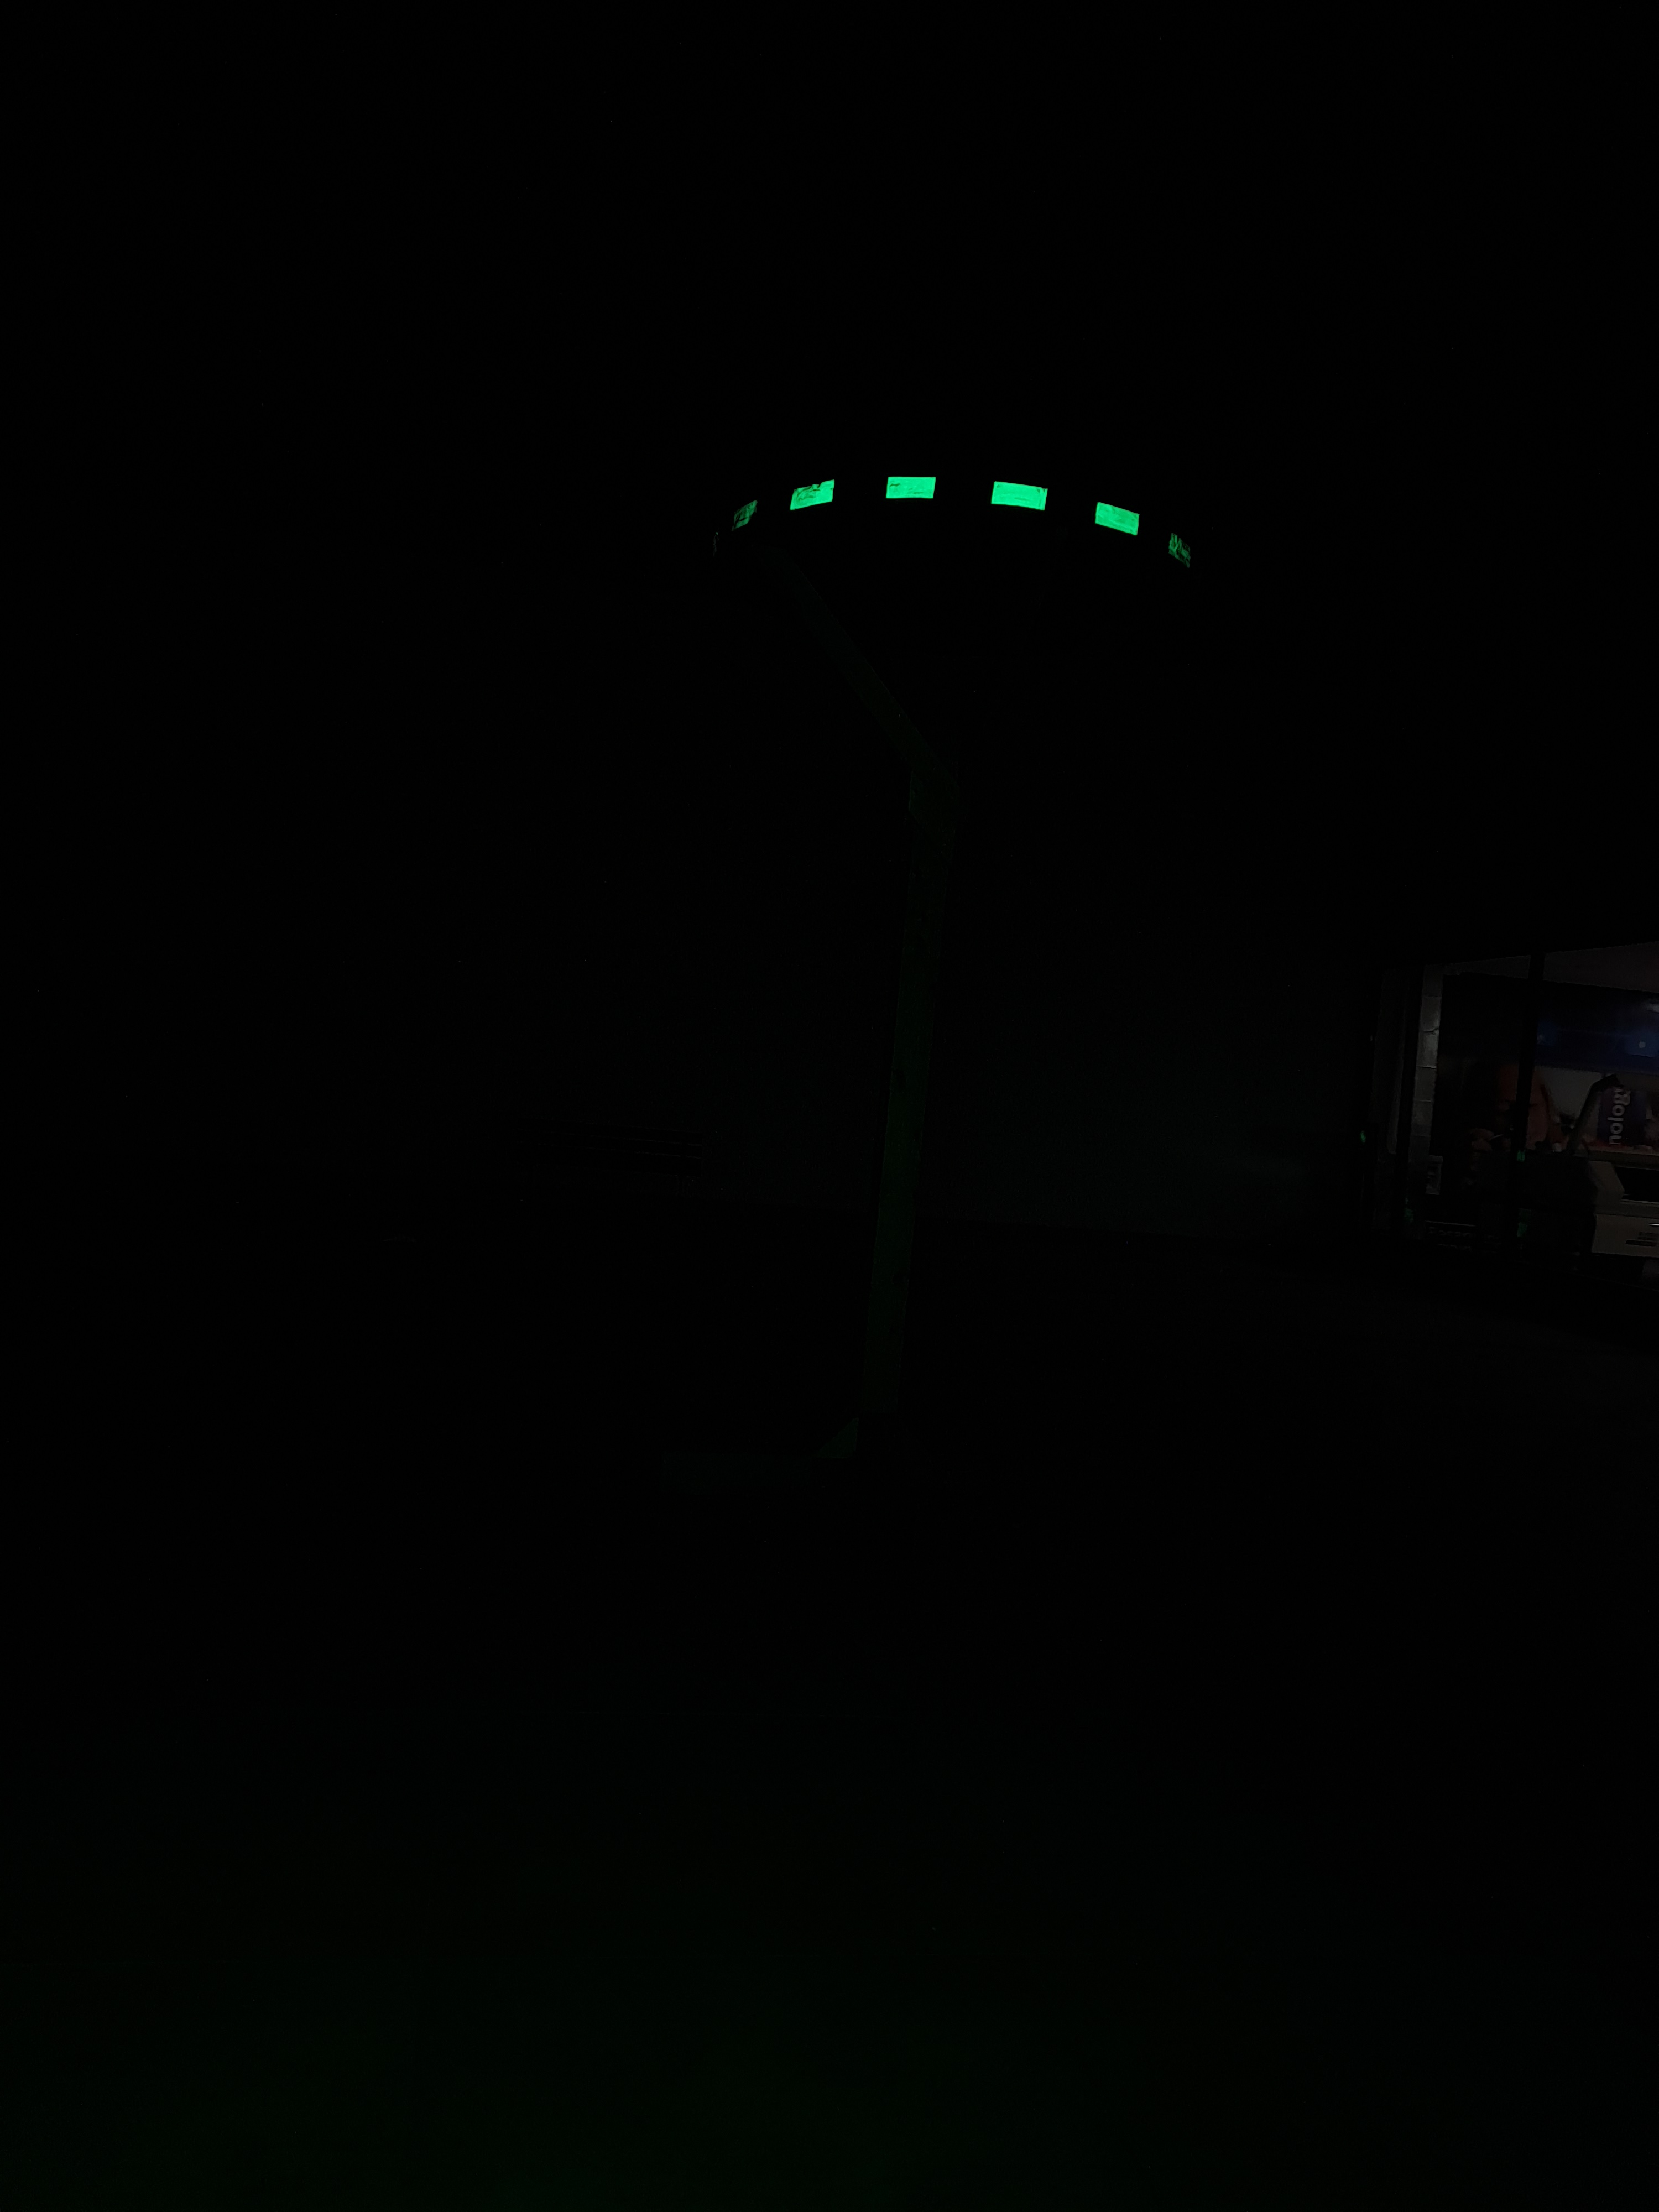hoop: (697, 435, 1215, 585)
